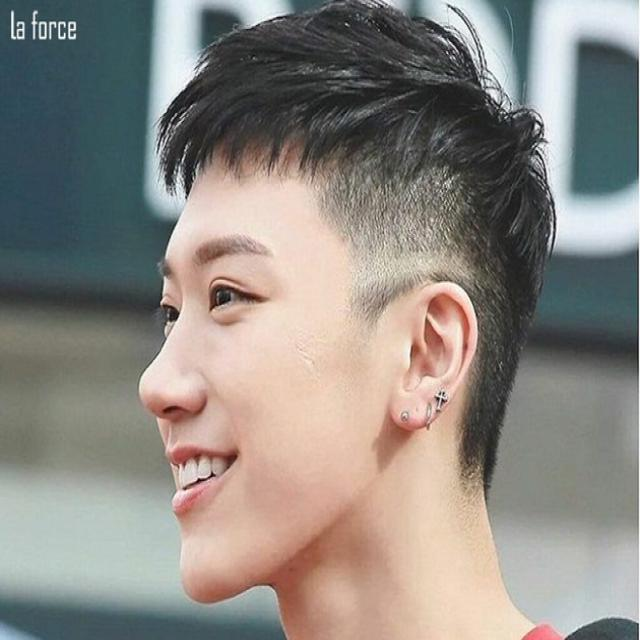Nonhelmet: (138, 0, 558, 607)
